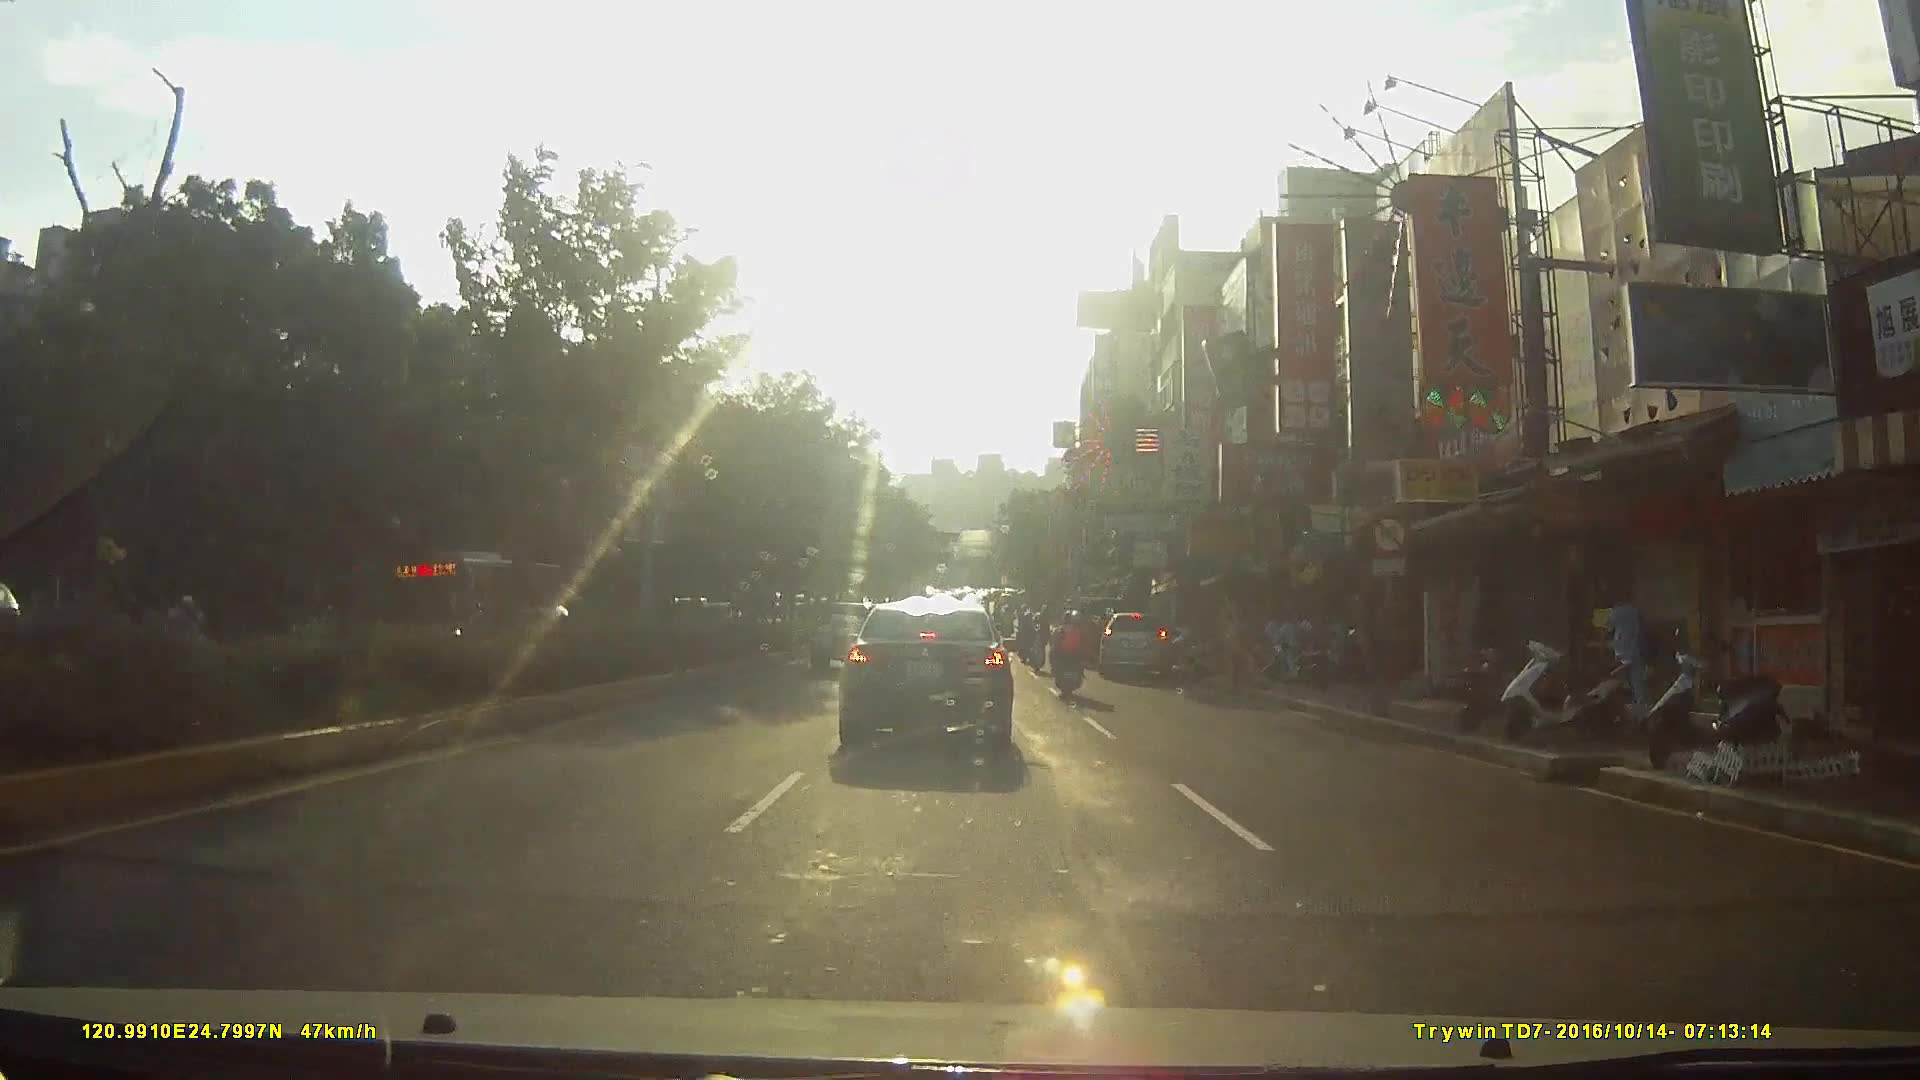pedestrian: (1594, 584, 1648, 706)
rider: (1054, 608, 1099, 705), (1021, 609, 1053, 680)
vehicle: (836, 589, 1033, 759), (1098, 606, 1185, 691)
